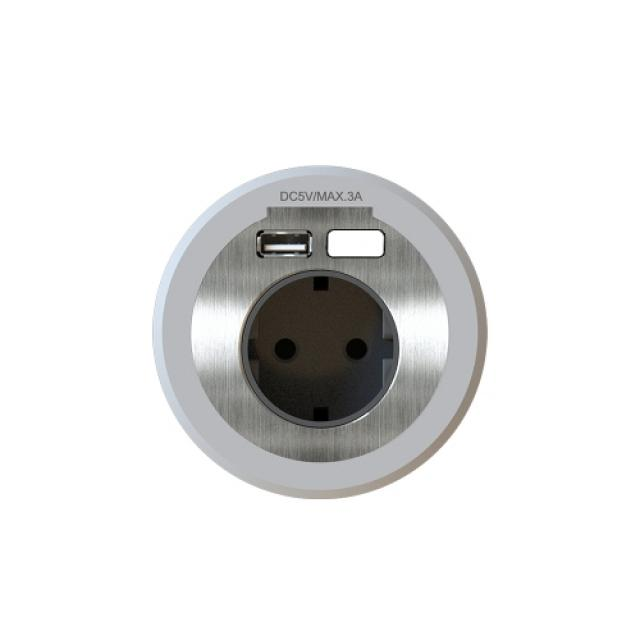typeb: (132, 127, 539, 542)
